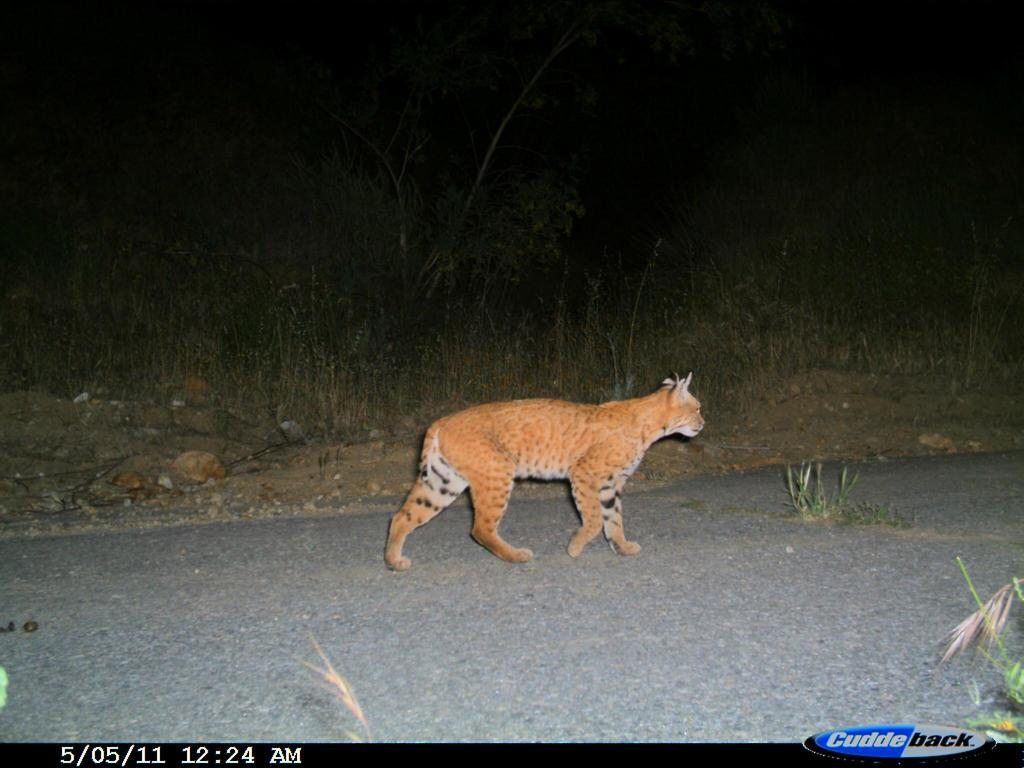bobcat: (381, 368, 710, 577)
